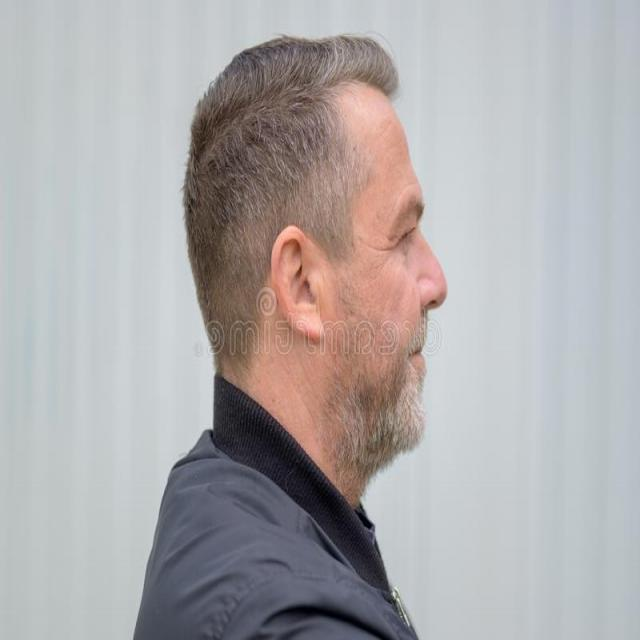Healthy: (221, 339, 362, 500)
